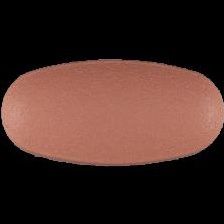16590-135: (0, 0, 224, 224)
